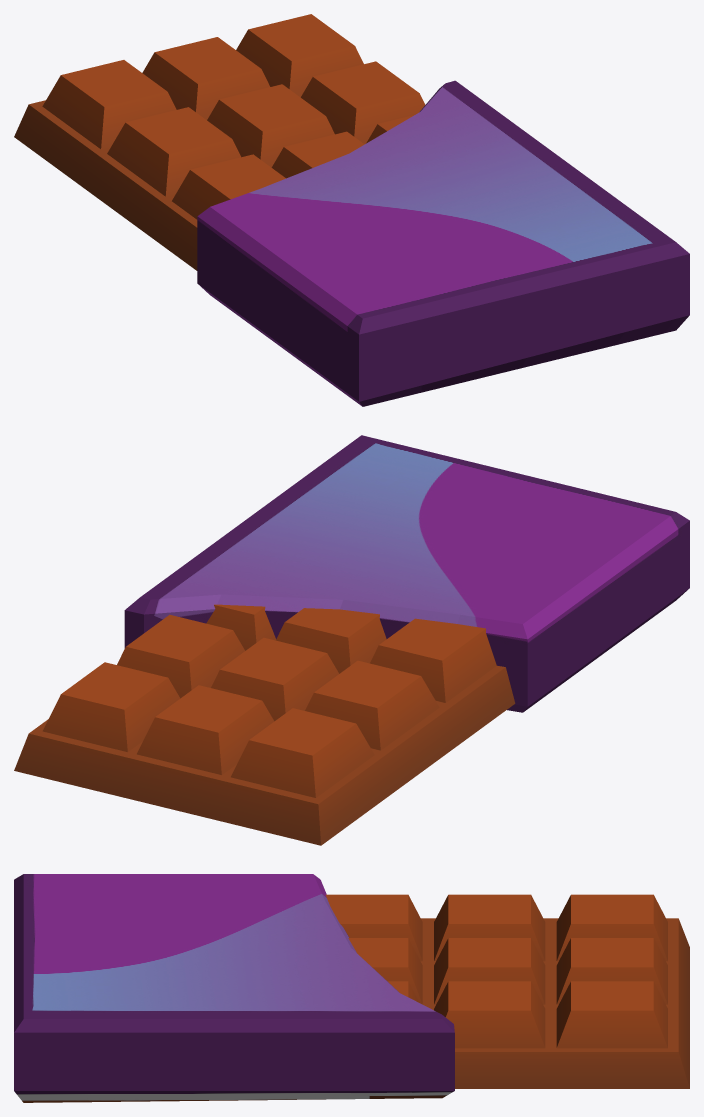
The model's file is chocolate.fbx.
3 renders of one model, top to bottom at view 1: azimuth 30°, elevation 25°; view 2: azimuth 150°, elevation 25°; view 3: azimuth 270°, elevation 25°, orthographic. The views are drawn at different scales.
Visible parts, largest first — view 1: choc; view 2: choc; view 3: choc.
Part boxes in pixels (left/top/right/bottom): choc: left=14, top=14, right=689, bottom=406; choc: left=14, top=435, right=689, bottom=845; choc: left=14, top=874, right=689, bottom=1102.
Bounding box in the file's own units: 38.6 × 9.85 × 71.99.
Materials: 1 (1 with a texture image).
